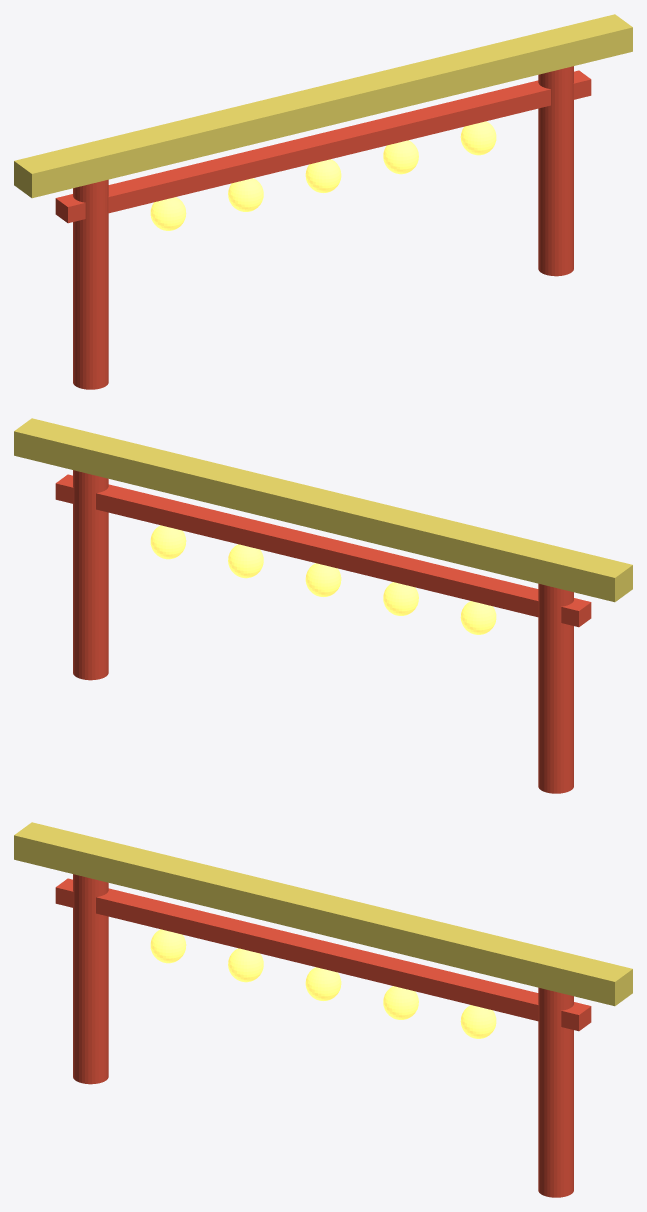
Rendered from env_goal_shrine.glb.
3 views of the same model, one above another, from view 1: azimuth 30°, elevation 25°; view 2: azimuth 150°, elevation 25°; view 3: azimuth 330°, elevation 25° (orthographic).
Visible parts, largest first — view 1: Cube, Cube.001, Cylinder, Cylinder.001, Sphere.004, Sphere.001, Sphere.002, Sphere.003, Sphere; view 2: Cube, Cube.001, Cylinder, Cylinder.001, Sphere.004, Sphere.001, Sphere.002, Sphere.003, Sphere; view 3: Cube, Cube.001, Cylinder.001, Cylinder, Sphere, Sphere.003, Sphere.001, Sphere.002, Sphere.004.
Part boxes in pixels (x1,y1,x2,y2): Cube: (14, 14, 632, 198); Cube.001: (55, 70, 591, 223); Cylinder: (73, 179, 108, 389); Cylinder.001: (538, 66, 573, 276); Sphere.004: (460, 121, 496, 155); Sphere.001: (228, 178, 263, 211); Sphere.002: (305, 159, 341, 192); Sphere.003: (383, 140, 418, 174); Sphere: (150, 197, 186, 230); Cube: (14, 418, 632, 602); Cube.001: (55, 474, 591, 627); Cylinder: (538, 583, 573, 793); Cylinder.001: (73, 470, 108, 680); Sphere.004: (150, 525, 186, 559); Sphere.001: (383, 582, 418, 615); Sphere.002: (305, 563, 341, 596); Sphere.003: (228, 544, 263, 578); Sphere: (460, 601, 496, 634); Cube: (14, 822, 632, 1006); Cube.001: (55, 878, 591, 1031); Cylinder.001: (538, 987, 573, 1197); Cylinder: (73, 874, 108, 1084); Sphere: (150, 929, 186, 963); Sphere.003: (383, 986, 418, 1019); Sphere.001: (228, 948, 263, 982); Sphere.002: (305, 967, 341, 1000); Sphere.004: (460, 1005, 496, 1038).
Size of the model in its own units: 15.5 by 5.7 by 0.8.
